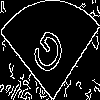G: (24, 25, 68, 86)
